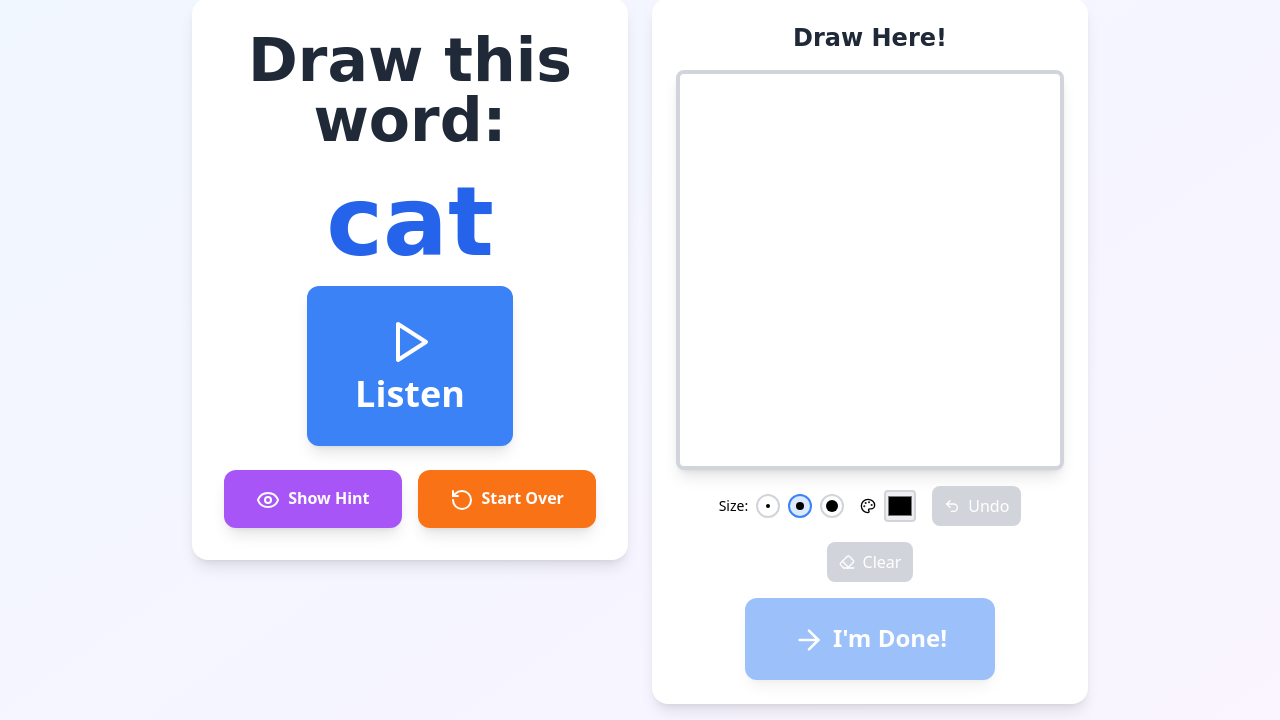
GameInterface › shows hint when hint button is clicked and image exists
The image size is (1280, 720).
(page scrolled)
Click the button "Show Hint" at (313, 499), box [224, 470, 402, 528]
(page scrolled)
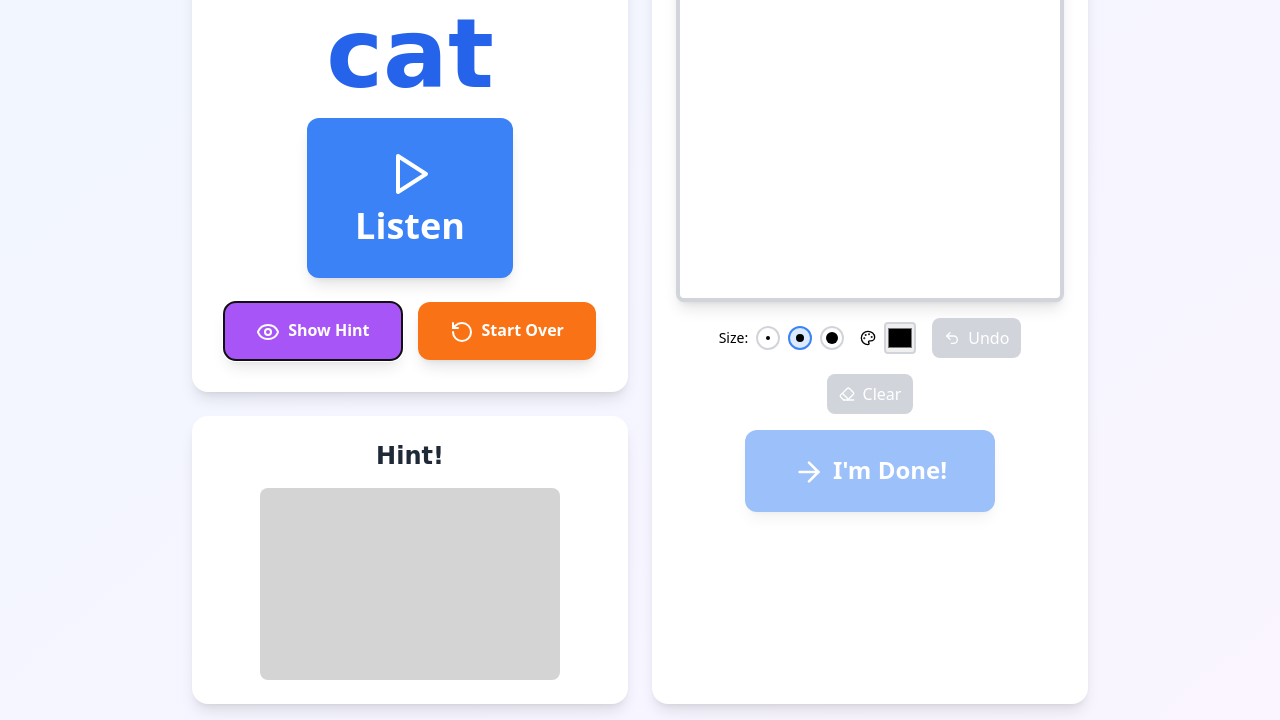
expect the heading "Hint!" is shown: met, box [376, 442, 444, 470]
